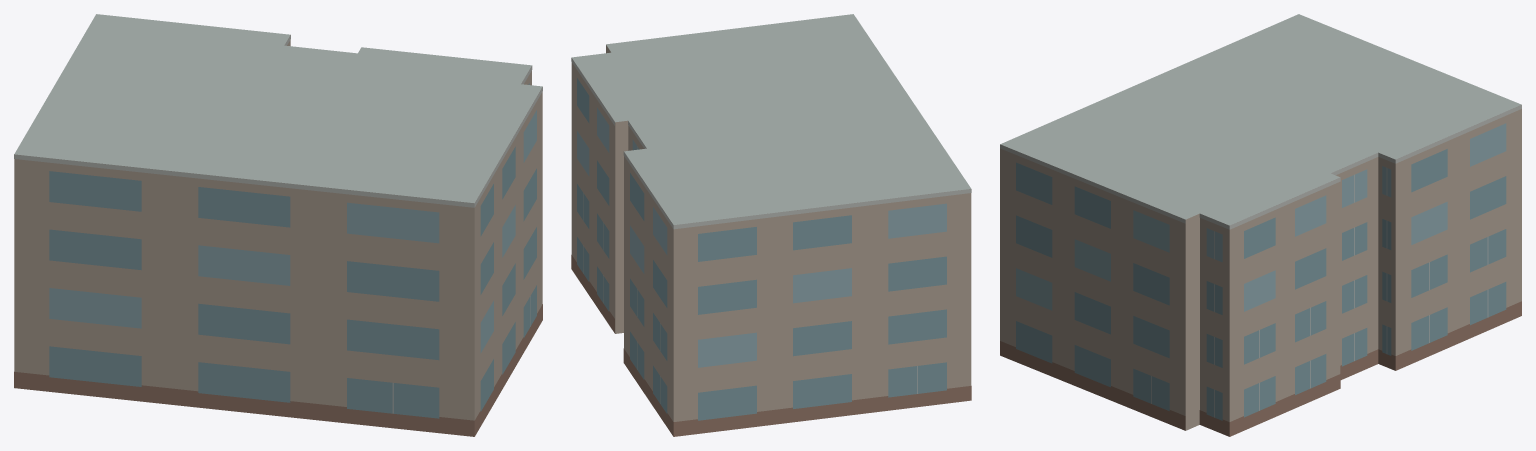
Rendered from survey-upis-32770729.glb.
The picture shows the model from 3 angles, left to right: view 1: azimuth 30°, elevation 25°; view 2: azimuth 150°, elevation 25°; view 3: azimuth 270°, elevation 25°; orthographic projection. The views are drawn at different scales.
Visible parts, largest first — view 1: survey-upis-32770729.tmp; view 2: survey-upis-32770729.tmp; view 3: survey-upis-32770729.tmp.
Part boxes in pixels (left/top/right/bottom): survey-upis-32770729.tmp: left=14, top=14, right=542, bottom=436; survey-upis-32770729.tmp: left=571, top=14, right=971, bottom=436; survey-upis-32770729.tmp: left=1000, top=14, right=1521, bottom=436.
Size of the model in its own units: 26.76 by 12.45 by 27.87.
